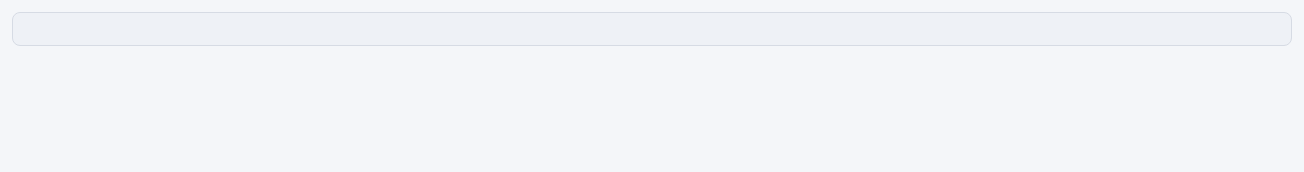
Test: SearchInput › clears from the × and keeps focus in the field
The width and height of the screenshot is (1304, 172).
In the search field named "Search": (652, 29) [12,12,1292,46], type "rent"
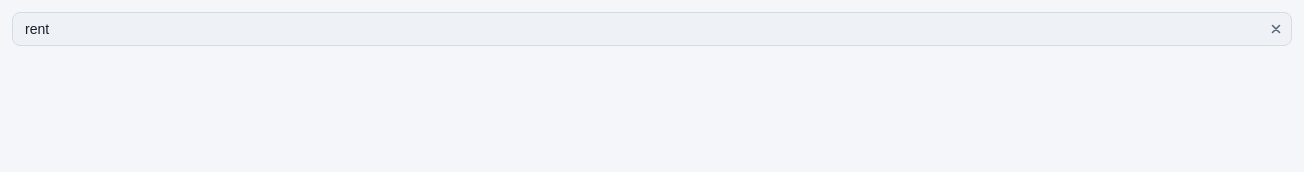
Click the button named "Clear search": (1276, 29) [1266,19,1286,39]
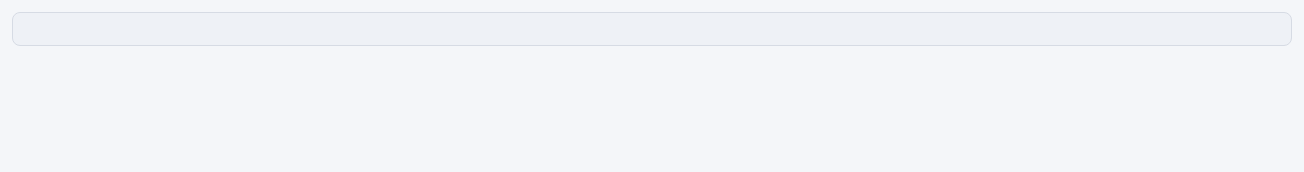
Expected: the search field named "Search" is empty, [12,12,1292,46]
